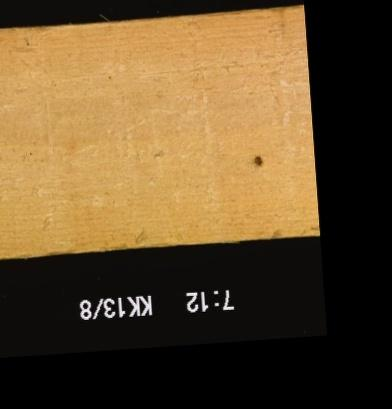small_knot: (253, 151, 264, 168)
